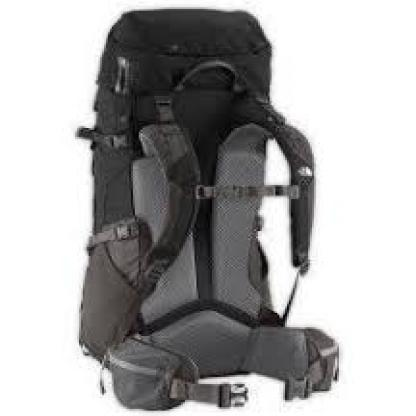morral: (56, 4, 362, 410)
